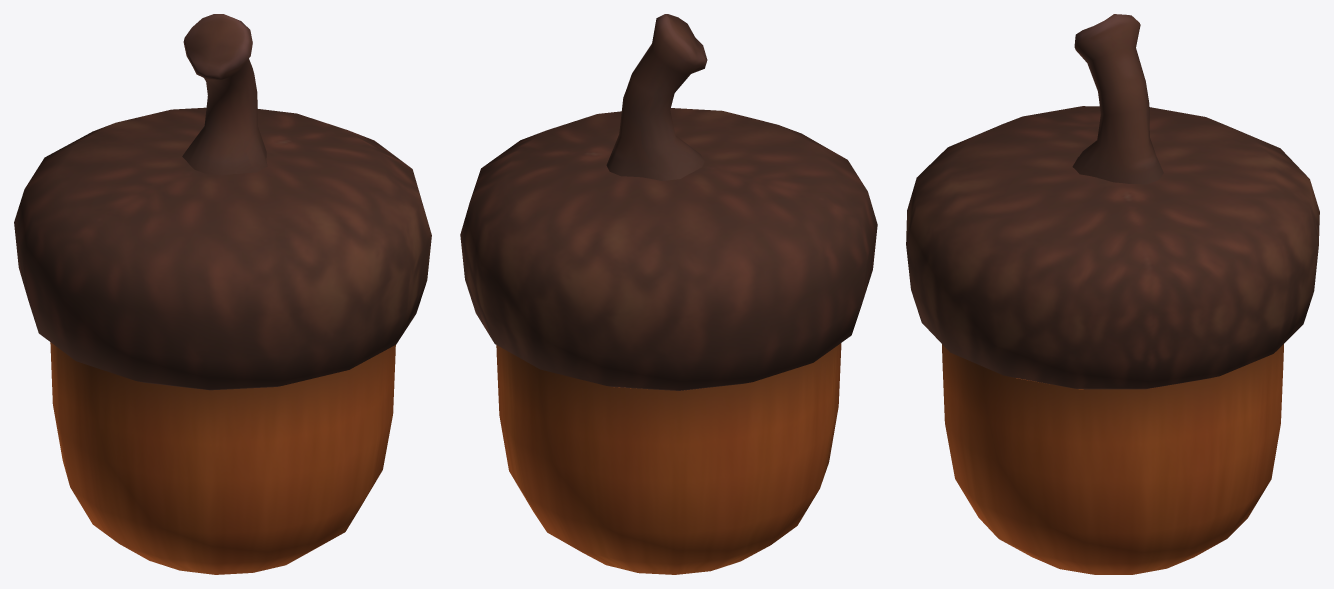
The model's file is acorn-brown.fbx.
3 renders of one model, left to right at view 1: azimuth 30°, elevation 25°; view 2: azimuth 150°, elevation 25°; view 3: azimuth 270°, elevation 25°, orthographic.
Visible parts, largest first — view 1: acorn-brown; view 2: acorn-brown; view 3: acorn-brown.
Boxes of the visible parts, x1,y1,x2,y2 form: acorn-brown: [14, 14, 431, 574]; acorn-brown: [460, 14, 877, 574]; acorn-brown: [906, 14, 1319, 574].
Size of the model in its own units: 0.4342 by 0.6322 by 0.4342.
